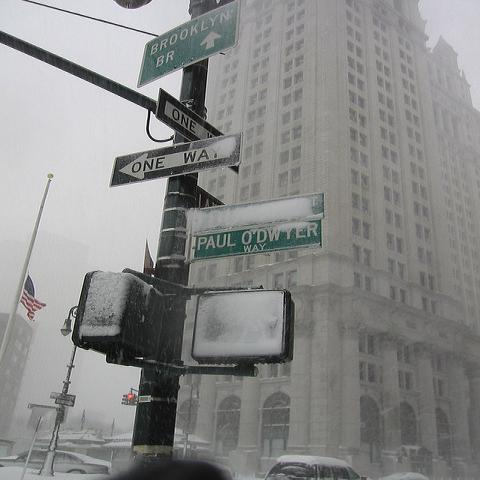car: (0, 449, 114, 475), (262, 456, 375, 479)
